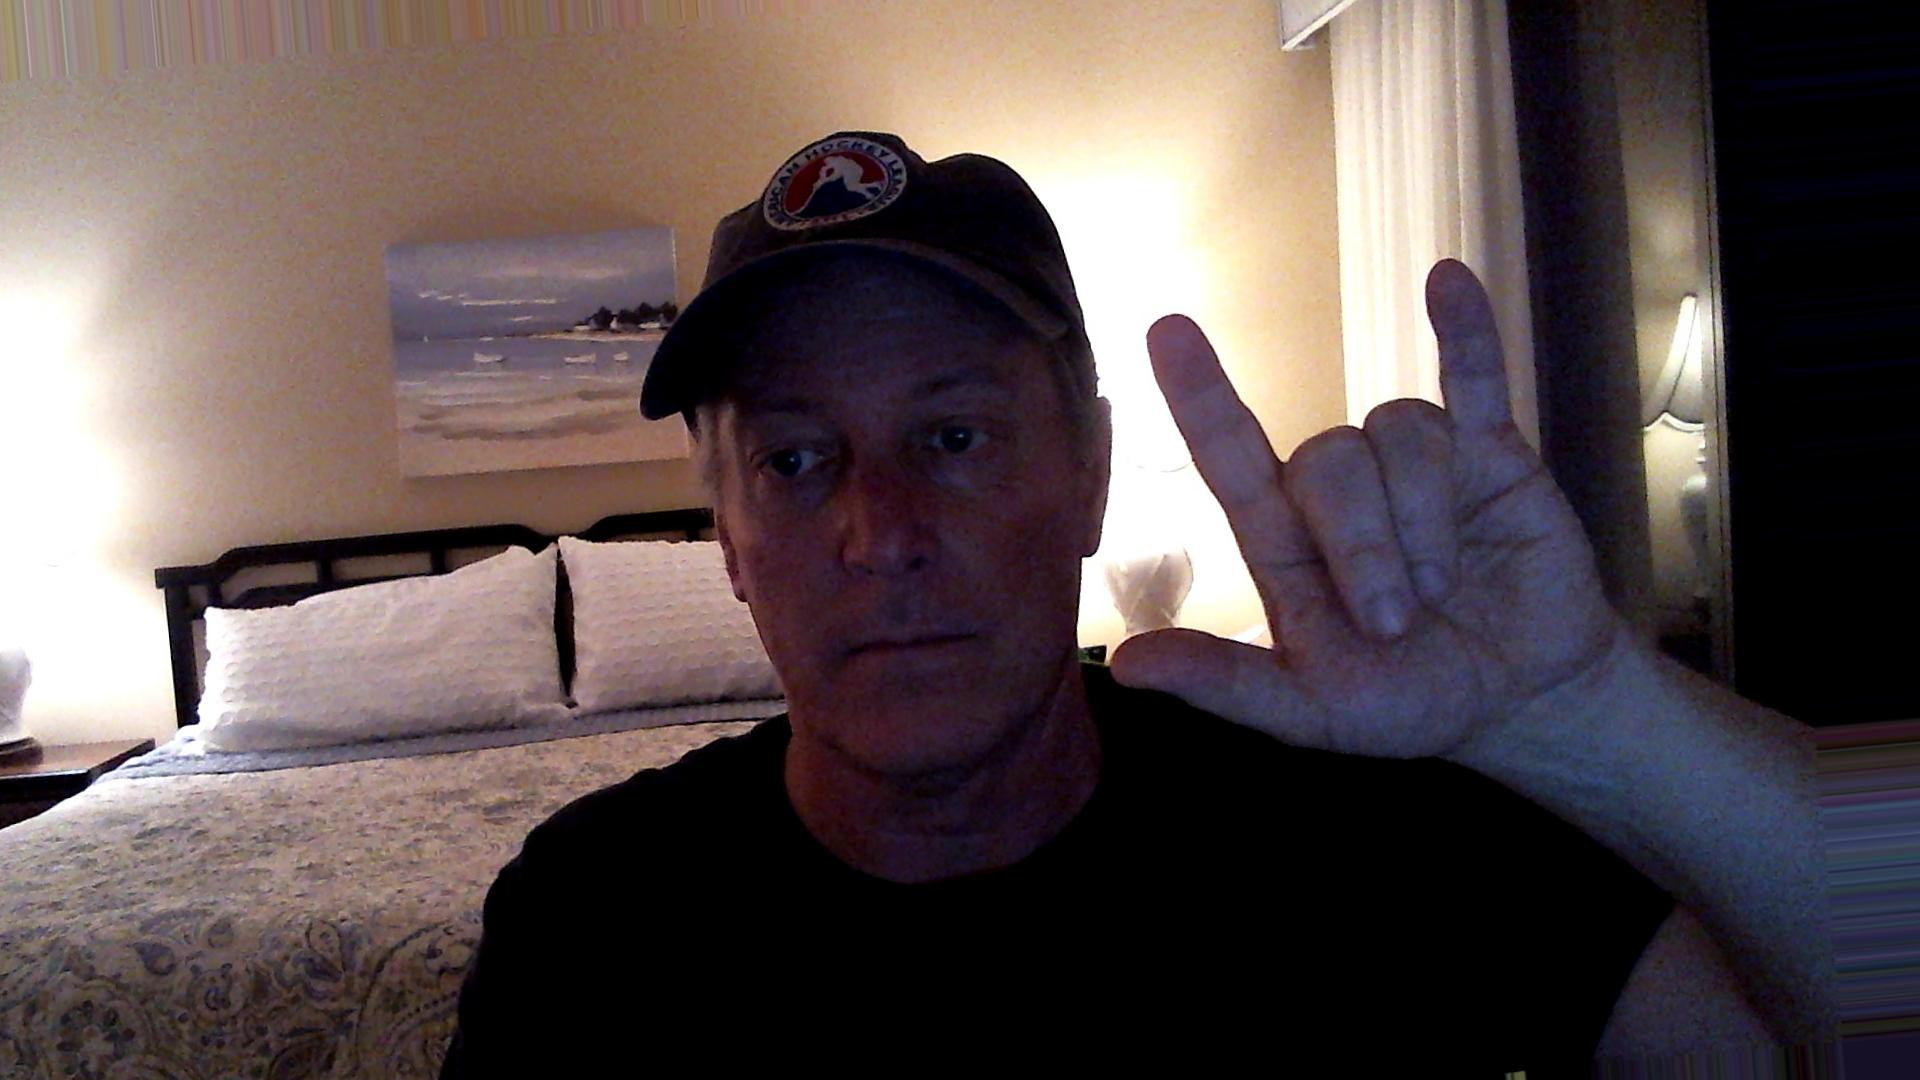I Love You: (1101, 247, 1643, 767)
